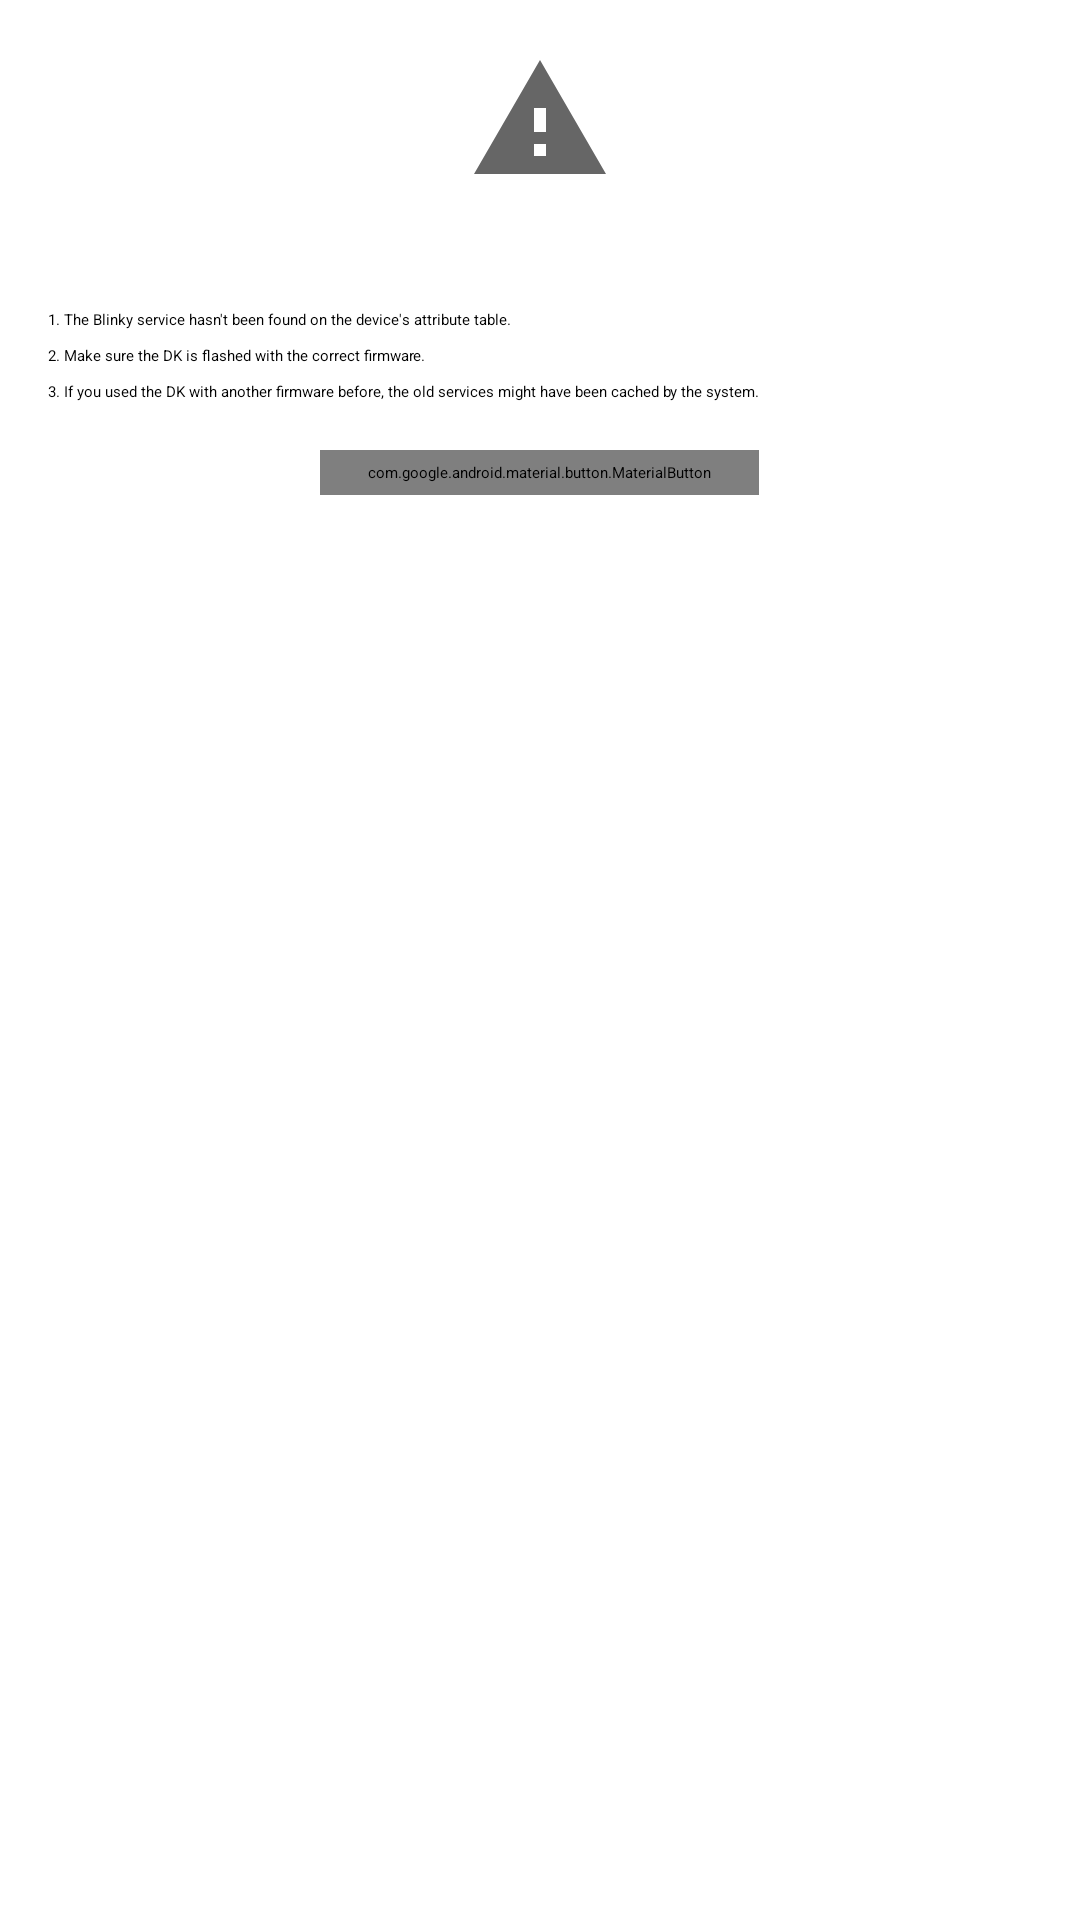

Icon bounding boxes for this 1080 × 1920 phone screenshot, format (x1, y1, x2, y2):
alert: (474, 60, 606, 174)
